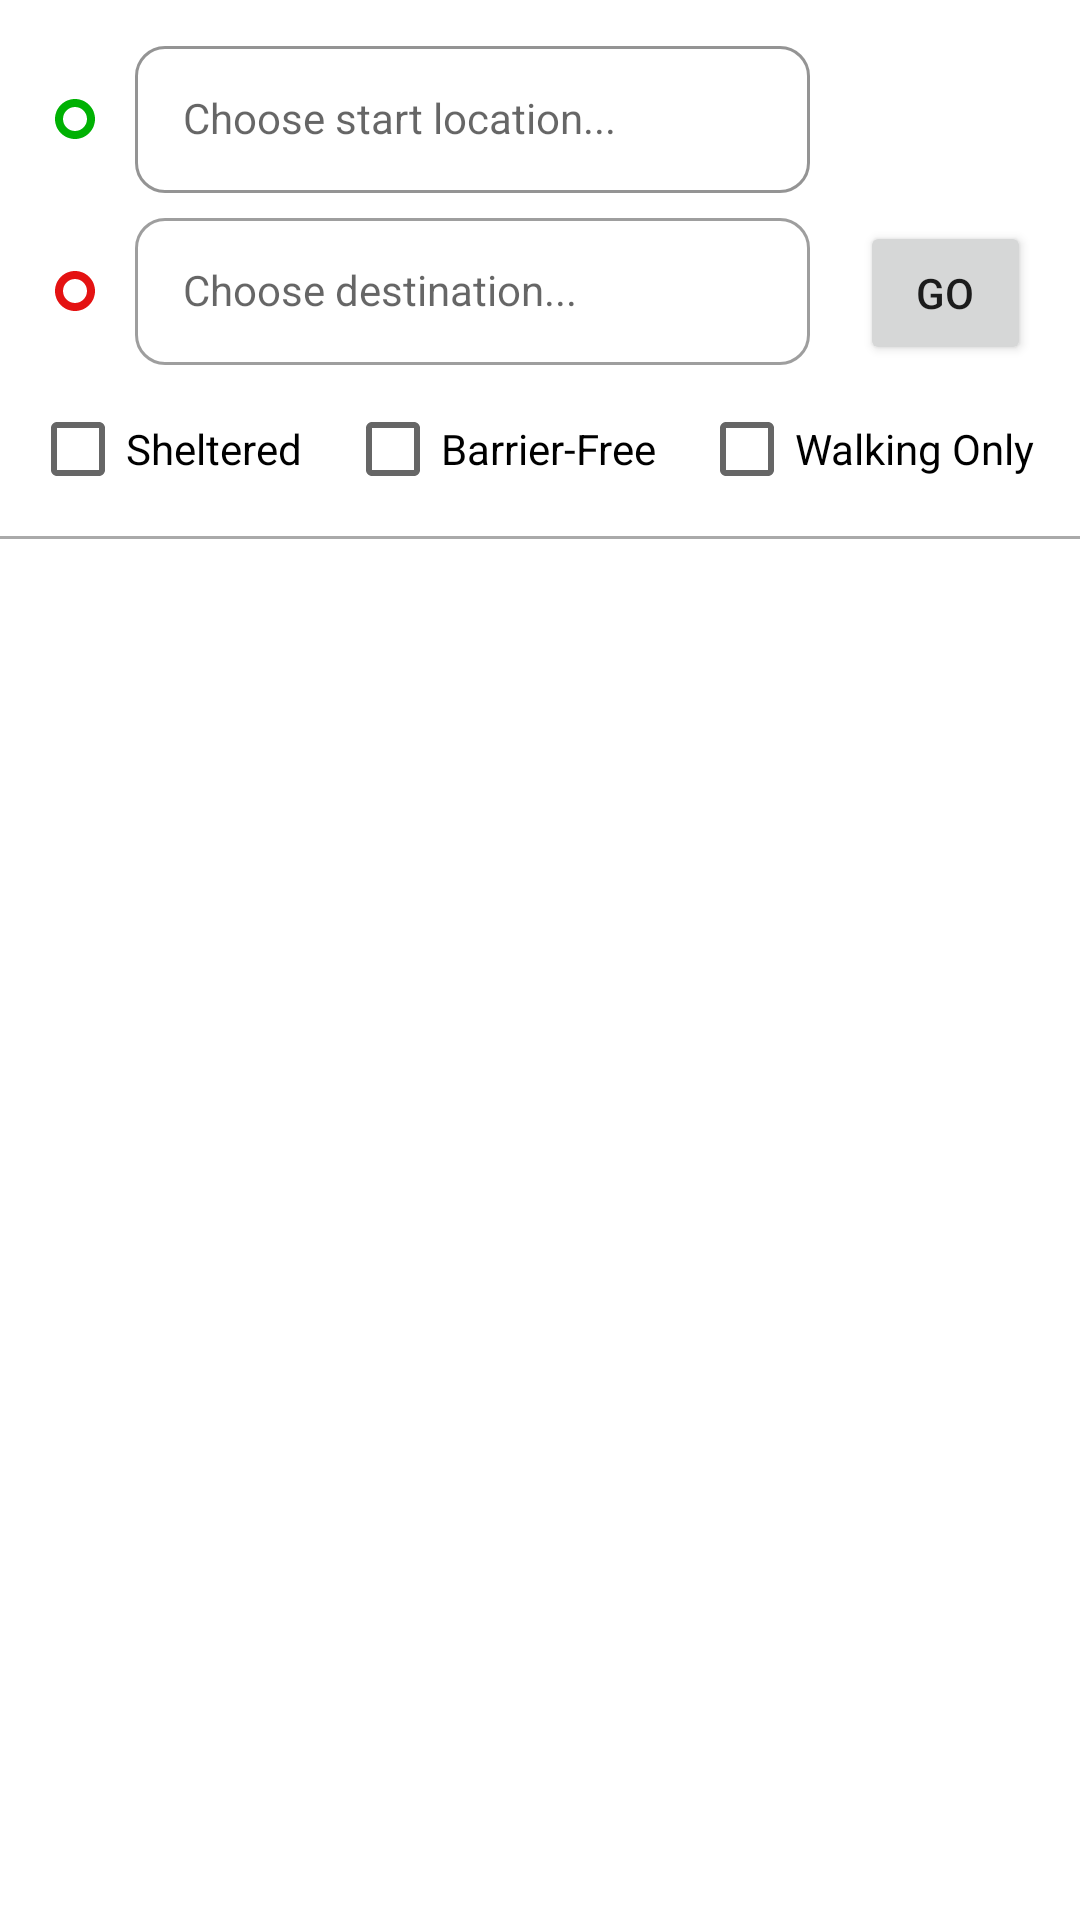

Screen size 1080 × 1920. Icon name, then its center in pixels as point (x, y):
trip origin: point (75, 119), point (75, 291)
